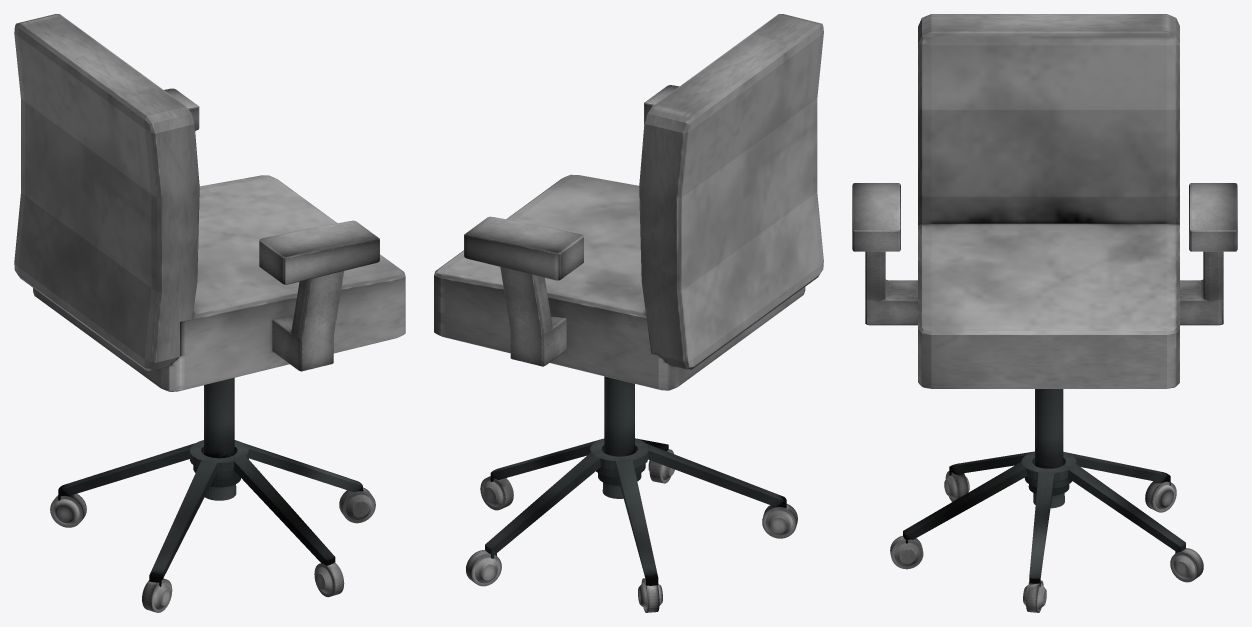
Rendered from Chair.fbx.
The picture shows the model from 3 angles, left to right: view 1: azimuth 30°, elevation 25°; view 2: azimuth 150°, elevation 25°; view 3: azimuth 270°, elevation 25°; orthographic projection. The views are drawn at different scales.
Parts seen in each view (by area): view 1: Cube.024, Cube.019, Circle.001, Cube.023, Cube.022, Cylinder.008, Cylinder.009; view 2: Cube.024, Cube.019, Circle.001, Cube.021, Cube.020, Cylinder.008, Cylinder.009; view 3: Cube.024, Cube.019, Circle.001, Cylinder.008, Cube.021, Cube.023, Cube.022, Cube.020, Cylinder.009.
Boxes of the visible parts, x1,y1,x2,y2 form: Cube.024: [14, 14, 199, 370]; Cube.019: [33, 175, 405, 391]; Circle.001: [58, 440, 362, 586]; Cube.023: [259, 220, 379, 284]; Cube.022: [272, 271, 343, 371]; Cylinder.008: [50, 487, 375, 612]; Cylinder.009: [204, 377, 234, 458]; Cube.024: [639, 14, 823, 369]; Cube.019: [434, 174, 805, 390]; Circle.001: [485, 438, 786, 588]; Cube.021: [464, 216, 583, 280]; Cube.020: [500, 267, 566, 366]; Cylinder.008: [466, 449, 797, 612]; Cylinder.009: [604, 376, 634, 456]; Cube.024: [918, 14, 1179, 224]; Cube.019: [918, 223, 1179, 388]; Circle.001: [903, 451, 1185, 586]; Cylinder.008: [890, 471, 1203, 612]; Cube.021: [1189, 183, 1237, 251]; Cube.023: [852, 183, 900, 251]; Cube.022: [865, 251, 917, 325]; Cube.020: [1180, 251, 1223, 325]; Cylinder.009: [1035, 389, 1063, 468].
Size of the model in its own units: 62.19 by 107 by 78.24.
Materials: 1 (1 with a texture image).
